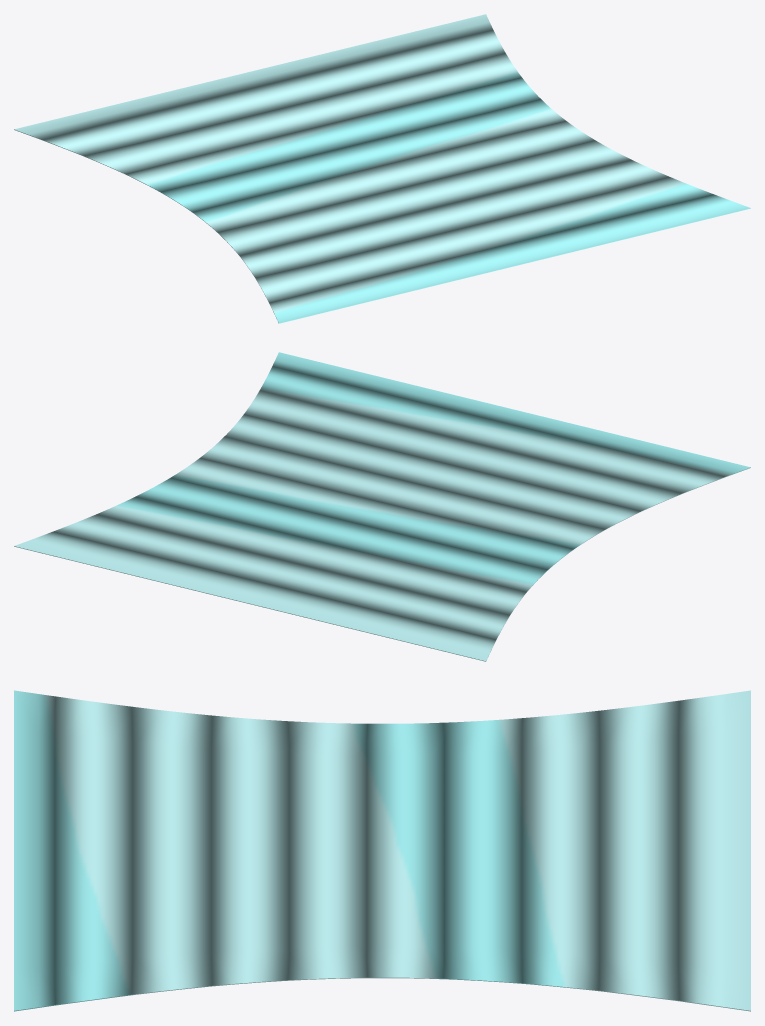
File: Level 194 unroll sail.fbx
The picture shows the model from 3 angles, top to bottom: view 1: azimuth 30°, elevation 25°; view 2: azimuth 150°, elevation 25°; view 3: azimuth 270°, elevation 25°; orthographic projection. The views are drawn at different scales.
Visible parts, largest first — view 1: Blend; view 2: Blend; view 3: Blend.
Boxes of the visible parts, box(x1,y1,x2,y2) form: Blend: box(14, 14, 750, 323); Blend: box(14, 352, 750, 661); Blend: box(14, 690, 750, 1011).
Size of what is drawn, in the model's own units: 941 by 0.9855 by 915.
